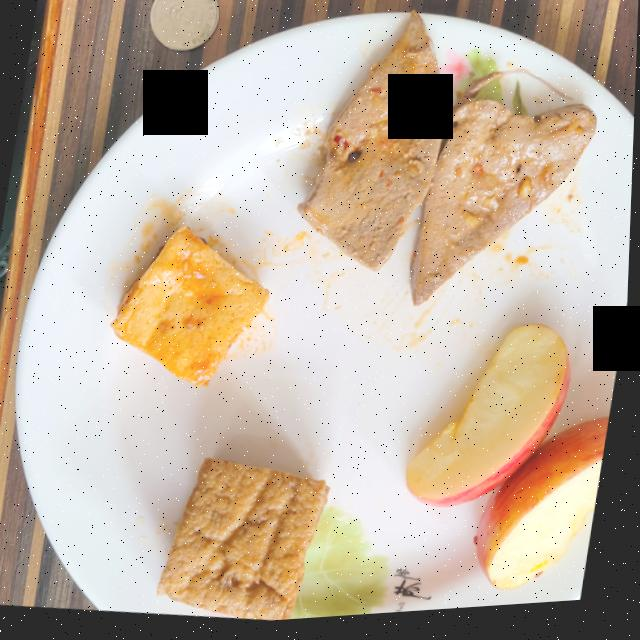apple -sliced-: (409, 331, 572, 512), (478, 425, 612, 596)
coin: (149, 0, 218, 53)
creamy tofu: (112, 228, 270, 389)
egg tofu: (161, 461, 332, 624)
pig liver: (300, 18, 596, 311)
